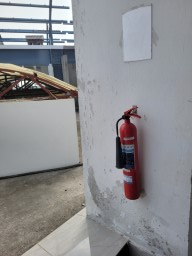fire_extinguisher: (79, 66, 150, 102)
